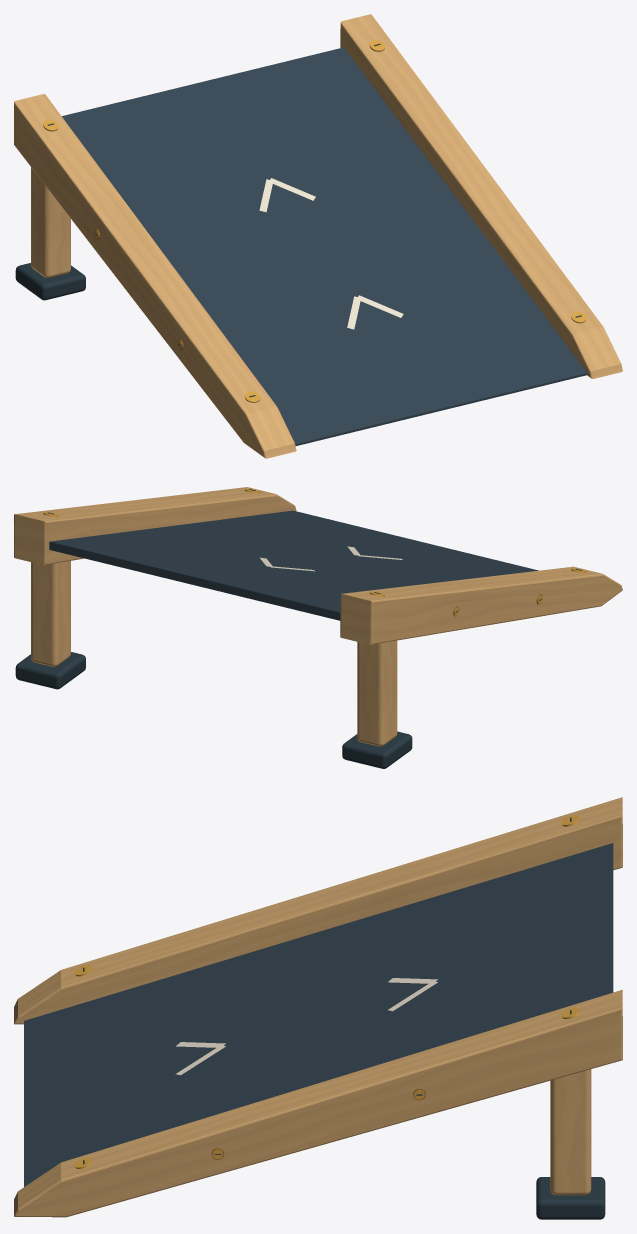
The model's file is play-ramp.glb.
3 views of the same model, one above another, from view 1: azimuth 30°, elevation 25°; view 2: azimuth 150°, elevation 25°; view 3: azimuth 270°, elevation 25° (orthographic). The views are drawn at different scales.
Visible parts, largest first — view 1: Ramp_Driving_Surface, Ramp_Wood_Rail_Left, Ramp_Wood_Rail_Right, Ramp_Rear_Support_Left, Ramp_Rear_Foot_Left; view 2: Ramp_Driving_Surface, Ramp_Wood_Rail_Left, Ramp_Wood_Rail_Right, Ramp_Rear_Support_Left, Ramp_Rear_Support_Right, Ramp_Rear_Foot_Left, Ramp_Rear_Foot_Right; view 3: Ramp_Driving_Surface, Ramp_Wood_Rail_Right, Ramp_Wood_Rail_Left, Ramp_Rear_Support_Right, Ramp_Rear_Foot_Right.
Part boxes in pixels (box(x1,y1,x2,y2)): Ramp_Driving_Surface: box(62, 47, 587, 445); Ramp_Wood_Rail_Left: box(14, 94, 296, 458); Ramp_Wood_Rail_Right: box(340, 14, 622, 378); Ramp_Rear_Support_Left: box(31, 167, 70, 277); Ramp_Rear_Foot_Left: box(15, 263, 85, 300); Ramp_Driving_Surface: box(49, 510, 538, 620); Ramp_Wood_Rail_Left: box(340, 566, 622, 644); Ramp_Wood_Rail_Right: box(14, 487, 296, 565); Ramp_Rear_Support_Left: box(357, 640, 397, 746); Ramp_Rear_Support_Right: box(31, 561, 70, 666); Ramp_Rear_Foot_Left: box(342, 731, 412, 768); Ramp_Rear_Foot_Right: box(15, 652, 85, 689); Ramp_Driving_Surface: box(24, 843, 613, 1186); Ramp_Wood_Rail_Right: box(14, 989, 622, 1217); Ramp_Wood_Rail_Left: box(14, 797, 622, 1024); Ramp_Rear_Support_Right: box(550, 1069, 591, 1195); Ramp_Rear_Foot_Right: box(536, 1177, 605, 1219).
Size of the model in its own units: 0.33 by 0.1476 by 0.3876.
7 materials, 1 textured.
